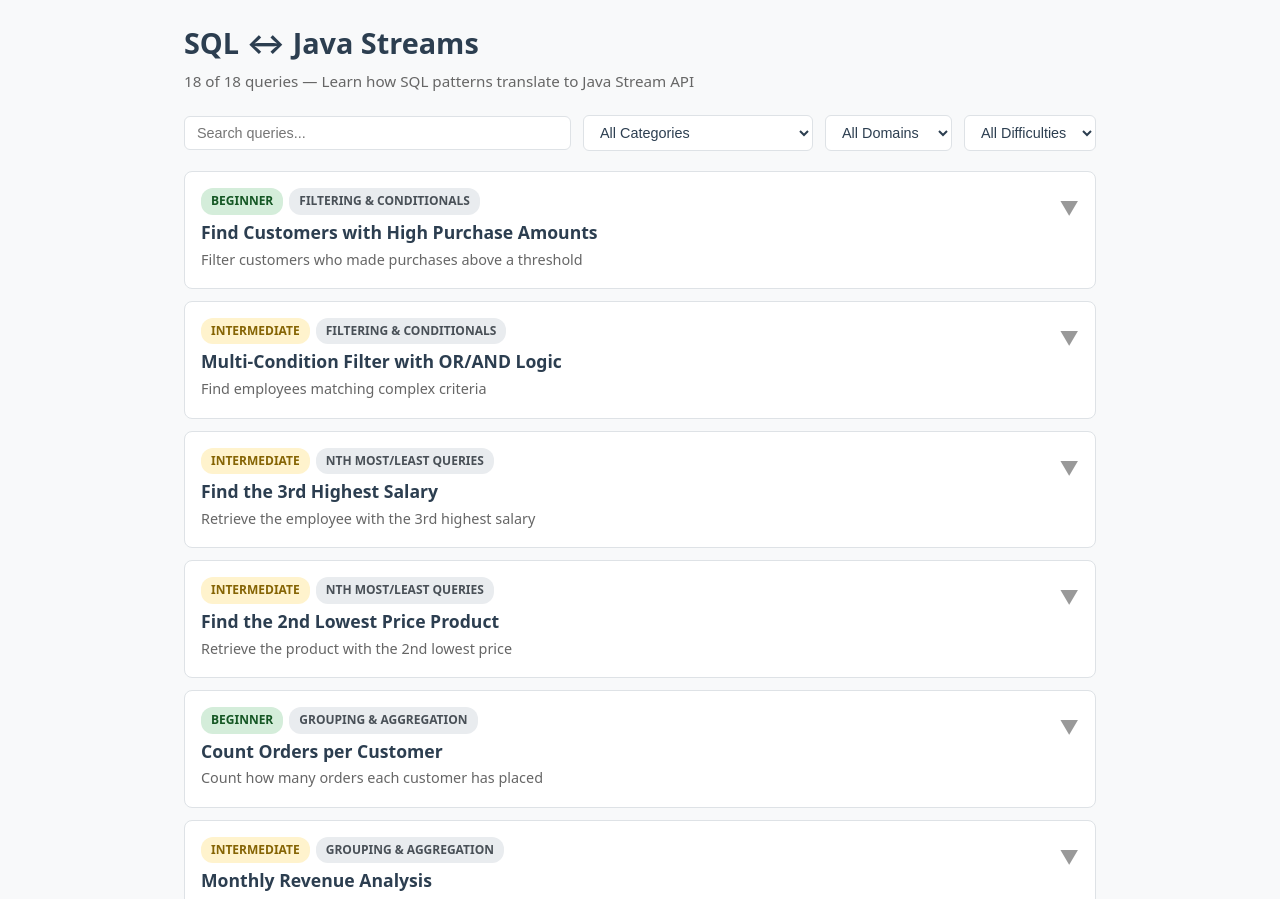
it: SqlStreamsPage › clears filters and restores all results
The image size is (1280, 899).
Type "rank" into the field with placeholder "Search queries..." at (378, 133), box [184,116,571,150]
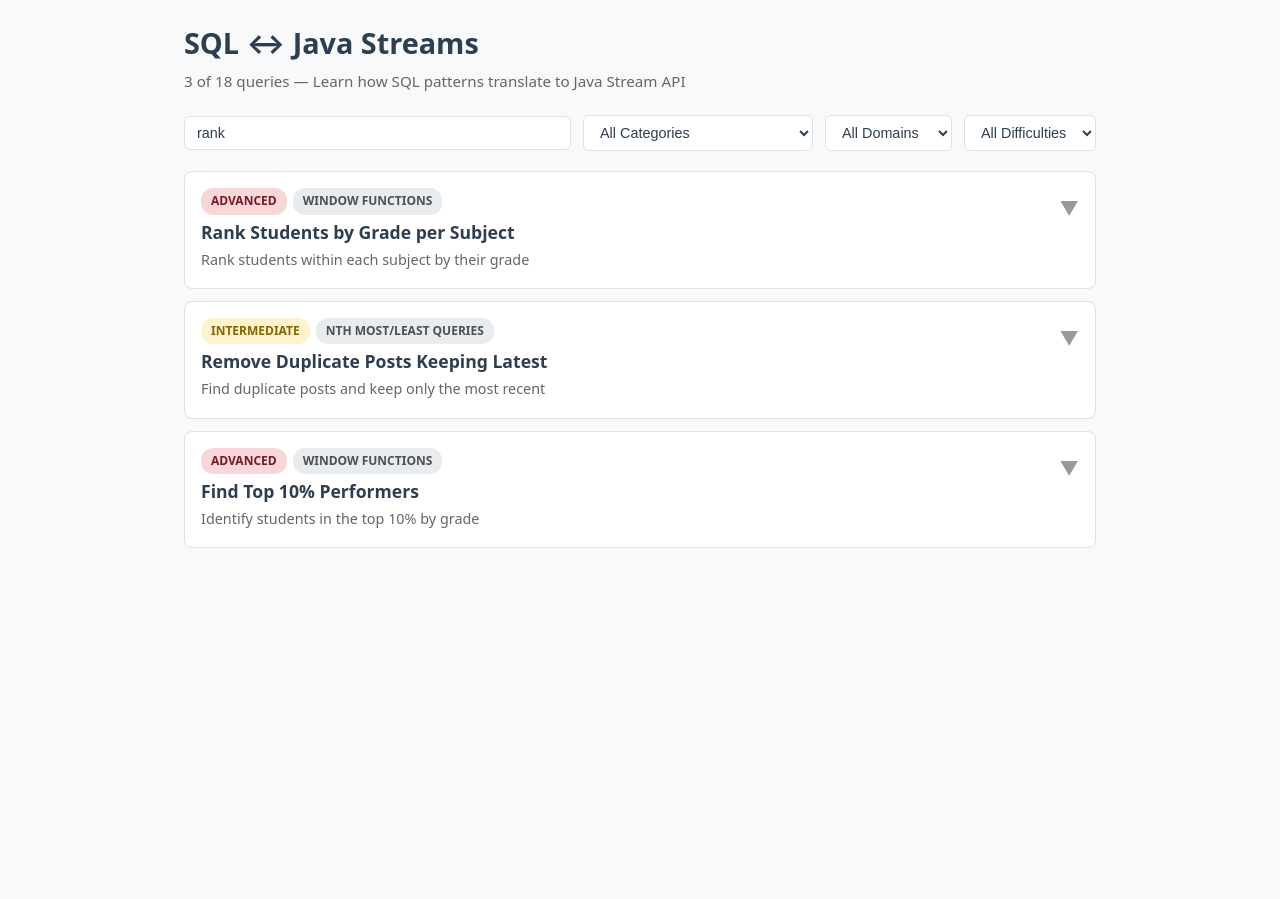
Expected: the button "Find Customers with High Purchase Amounts" is gone
Clear the field with placeholder "Search queries..." at (378, 133), box [184,116,571,150]
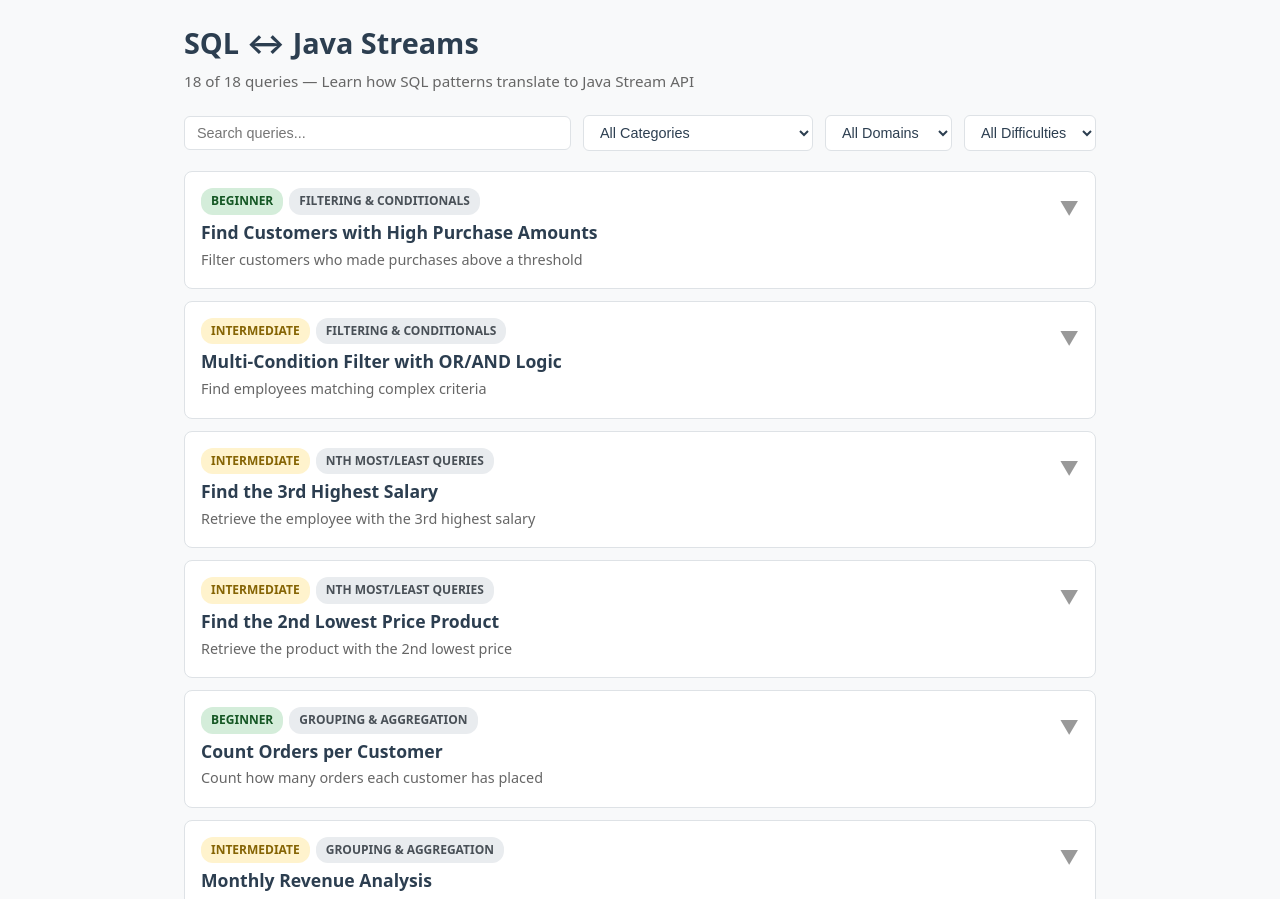
Expected: the heading "Find Customers with High Purchase Amounts" is shown, [201,220,598,244]
